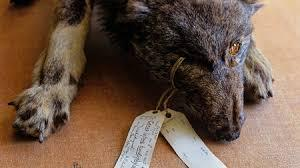Wolf: (7, 0, 277, 143)
